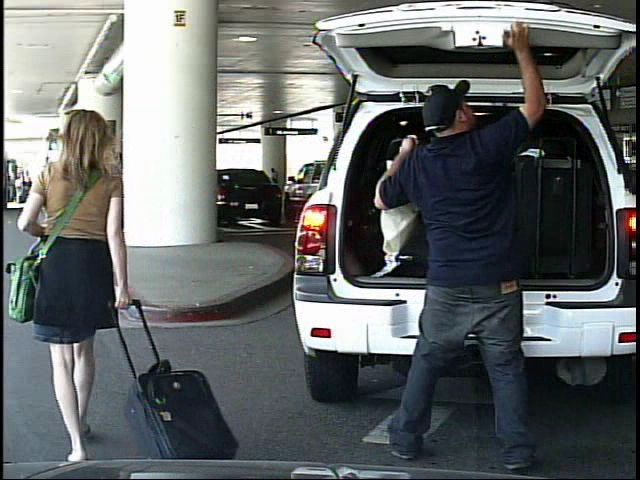person: (375, 12, 559, 479), (45, 101, 182, 445), (266, 166, 282, 203), (16, 173, 27, 204)
